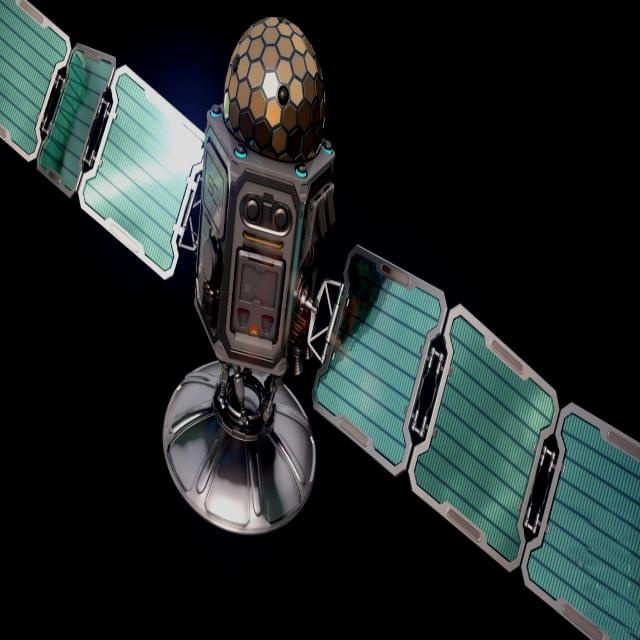medium_debris: (1, 0, 640, 640)
